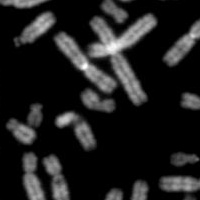chromosome: (90, 17, 147, 107), (53, 32, 116, 93), (87, 14, 157, 58), (163, 5, 200, 66), (55, 111, 96, 152), (13, 11, 55, 49), (43, 153, 69, 200), (22, 152, 45, 200), (81, 88, 115, 111), (5, 118, 36, 143), (158, 174, 200, 192), (100, 0, 127, 22), (0, 0, 57, 9), (170, 152, 200, 166), (180, 91, 200, 111), (131, 180, 150, 200), (27, 103, 42, 126), (95, 189, 122, 200), (153, 194, 197, 200), (113, 0, 143, 1)
